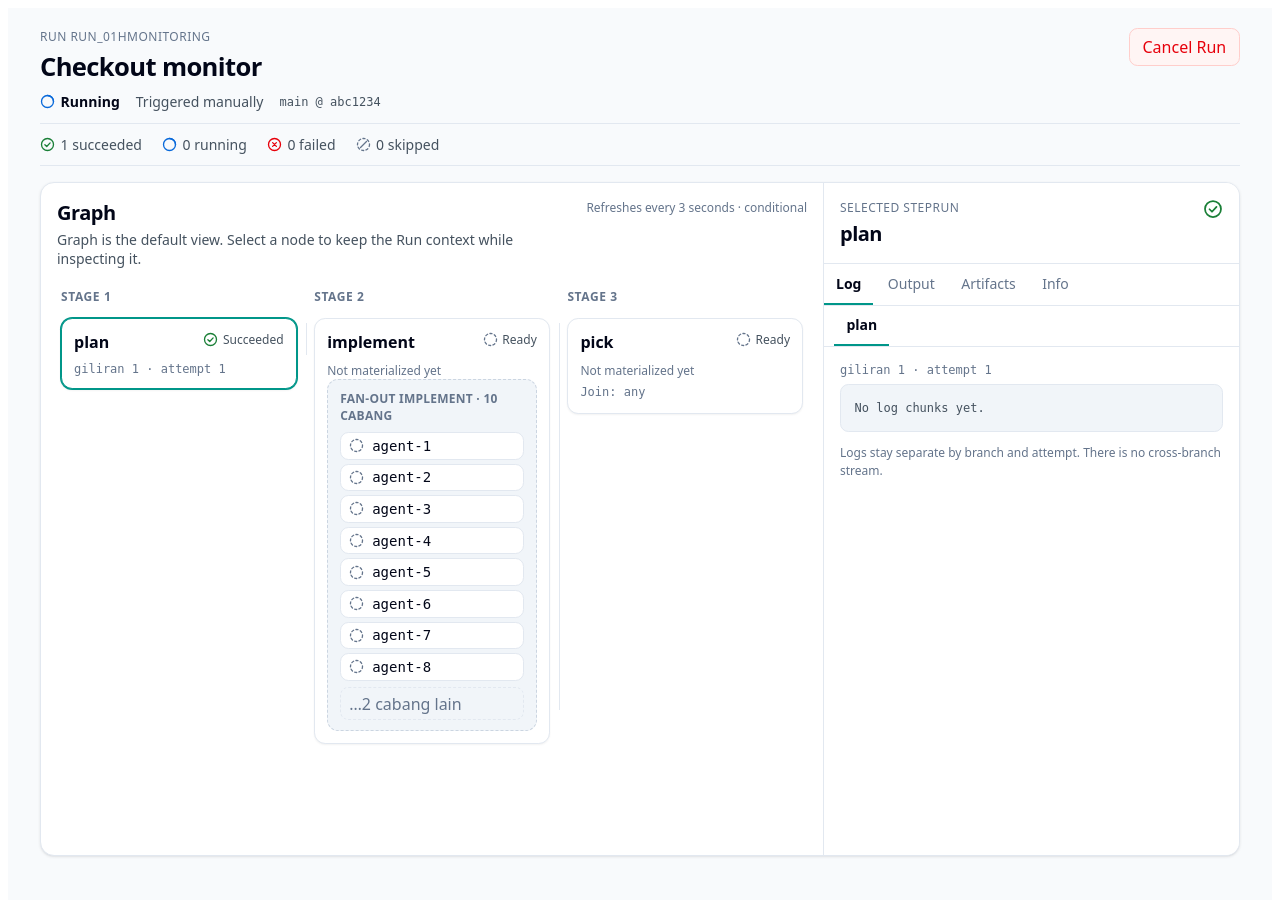
RunScreen › shows 'tidak didukung' through the screen for a StepRun whose agent reported no usage — never a figure
The width and height of the screenshot is (1280, 900).
Click the tab "Info". click: (1055, 284)
box: [1030, 264, 1081, 305]
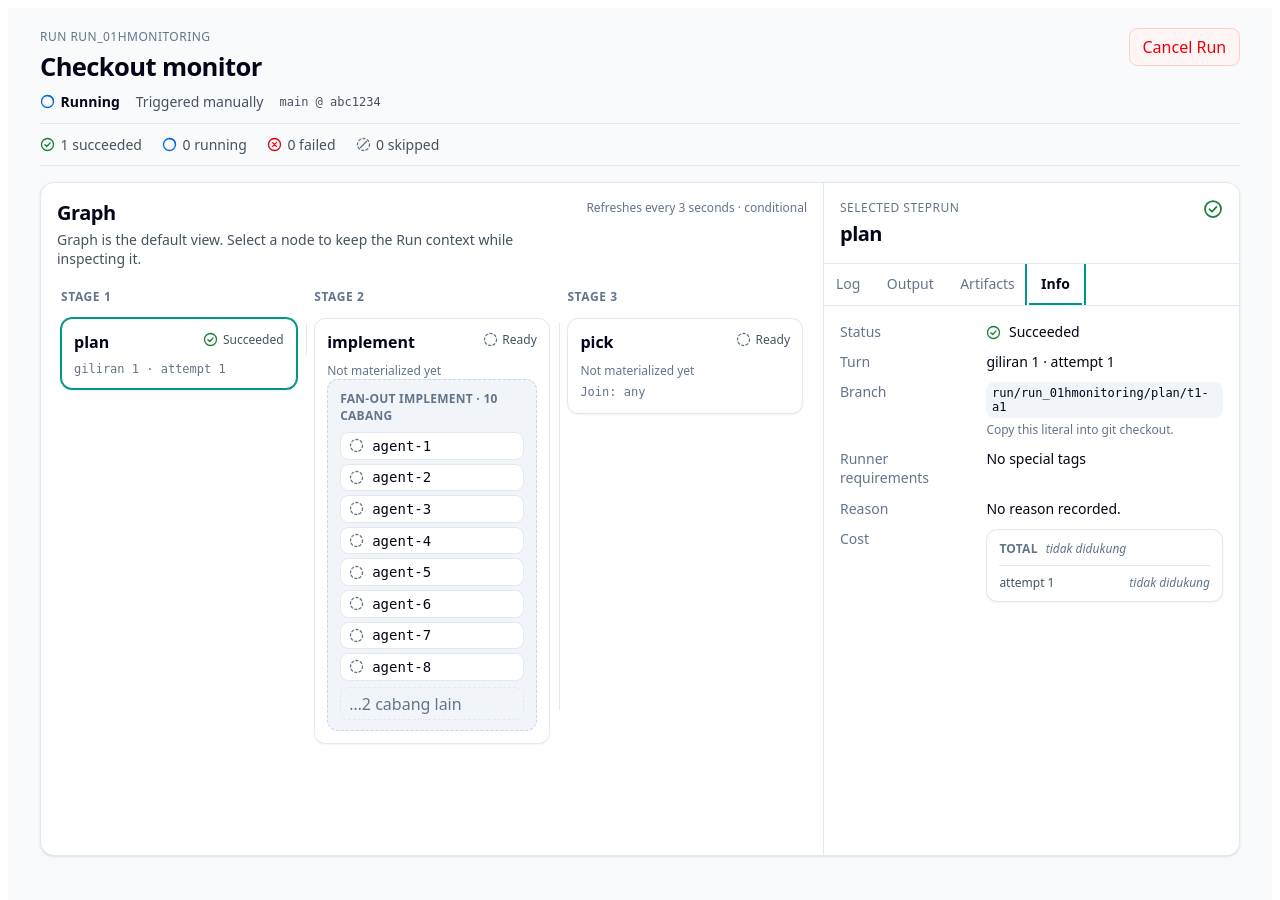
Now the text "tidak didukung" is shown 2 times, box [1046, 540, 1126, 557]; [1129, 574, 1210, 591]
